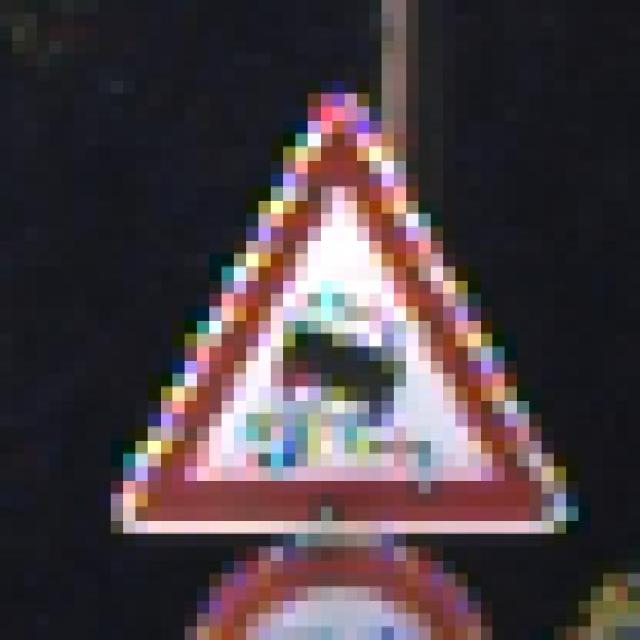Slippery Road Ahead: (86, 79, 579, 547)
